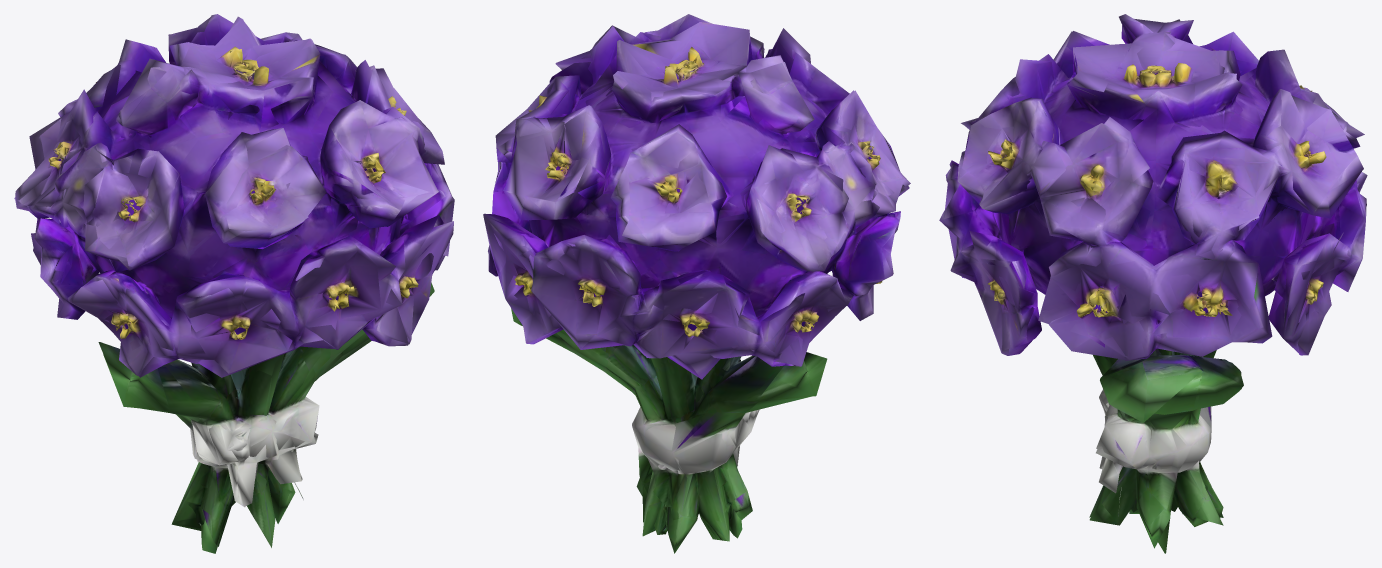
Rendered from field_flower_6.glb.
3 views of the same model, side by side, from view 1: azimuth 30°, elevation 25°; view 2: azimuth 150°, elevation 25°; view 3: azimuth 270°, elevation 25° (orthographic).
Size of the model in its own units: 1.51 by 1.87 by 1.5.
Materials: 1 (1 with a texture image).
